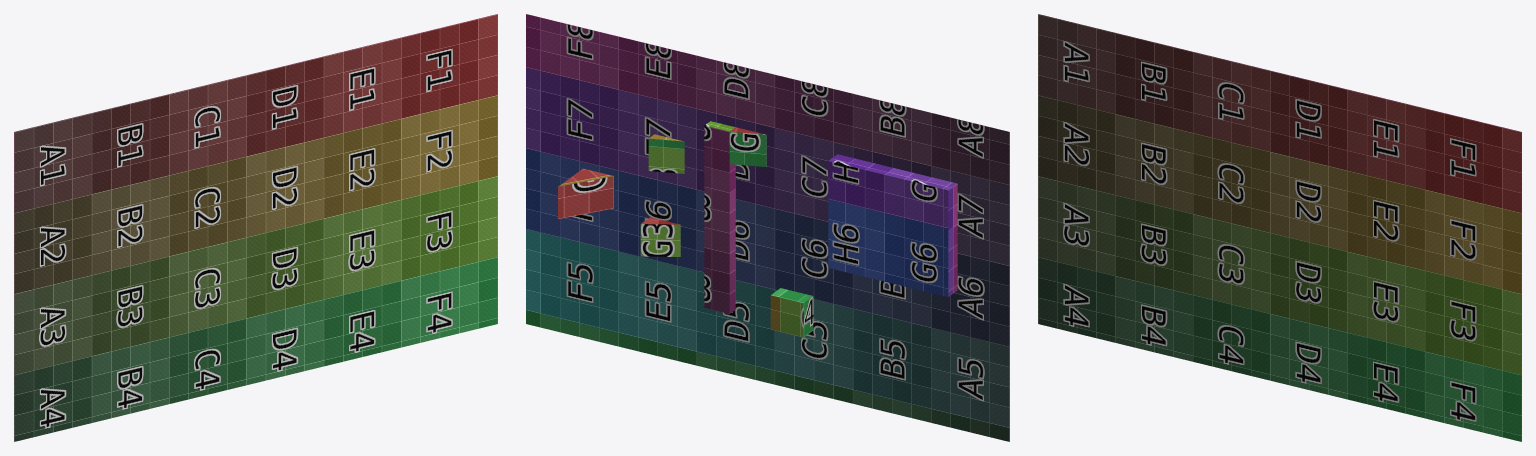
The model's file is sceneuv.dae.
3 renders of one model, left to right at view 1: azimuth 30°, elevation 25°; view 2: azimuth 150°, elevation 25°; view 3: azimuth 330°, elevation 25°, orthographic.
Visible parts, largest first — view 1: Cube; view 2: Cube; view 3: Cube.
Part boxes in pixels (box(x1,y1,x2,y2)): Cube: box(14, 14, 497, 441); Cube: box(526, 14, 1009, 441); Cube: box(1038, 14, 1521, 441).
Bounding box in the file's own units: 457 × 41.76 × 280.
1 material, 1 textured.
